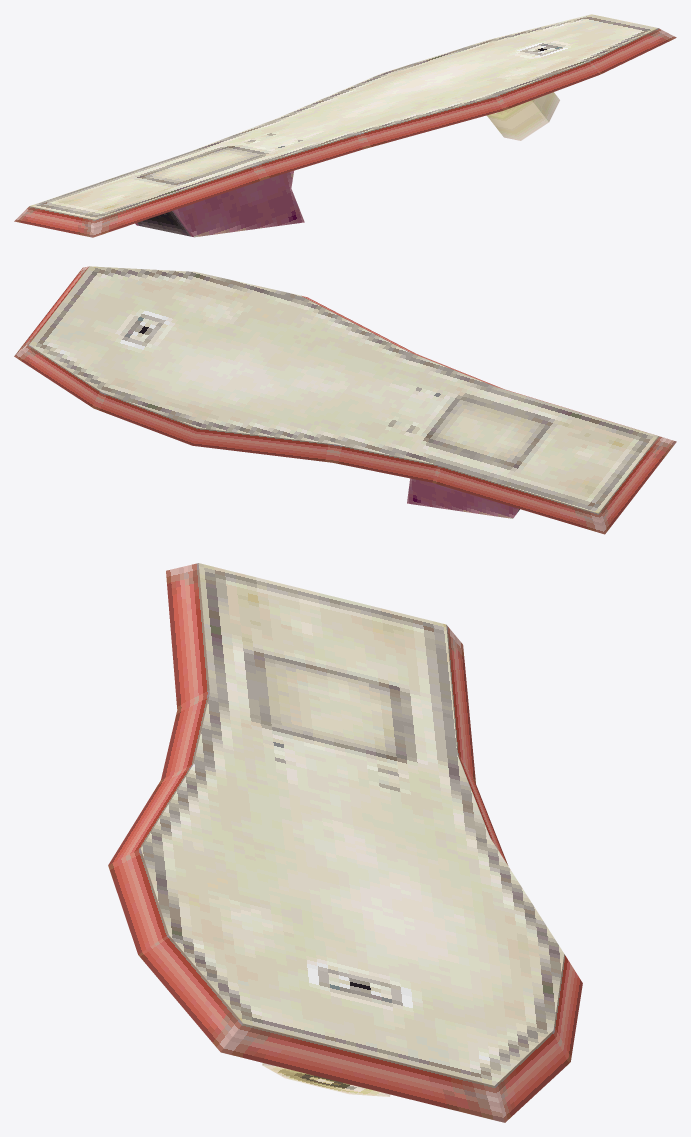
File: ps2_save-icons_eurekasevenvol1.glb
The picture shows the model from 3 angles, top to bottom: view 1: azimuth 30°, elevation 25°; view 2: azimuth 150°, elevation 25°; view 3: azimuth 270°, elevation 25°; orthographic projection. The views are drawn at different scales.
Parts seen in each view (by area): view 1: eureka_us_def.ico; view 2: eureka_us_def.ico; view 3: eureka_us_def.ico.
Part boxes in pixels (x1,y1,x2,y2): eureka_us_def.ico: (14,14,676,237); eureka_us_def.ico: (14,266,676,534); eureka_us_def.ico: (108,563,582,1122).
Bounding box in the file's own units: 4.8 × 0.9595 × 1.69.
Materials: 1 (1 with a texture image).
